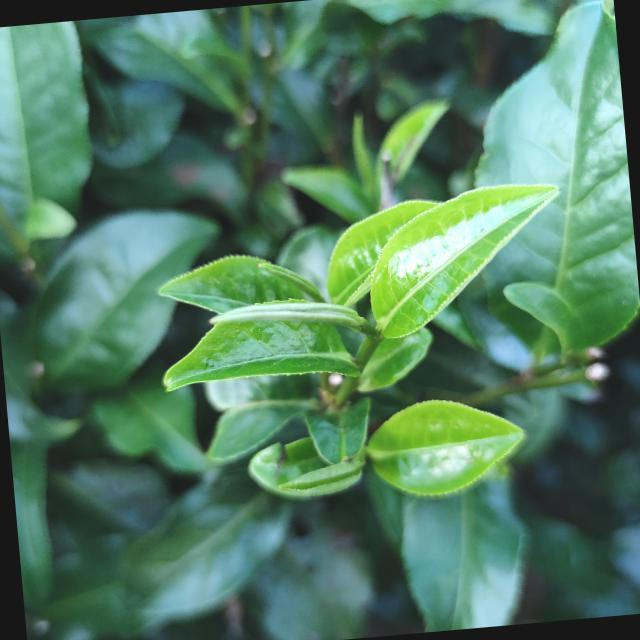Stem: (356, 337, 382, 363)
